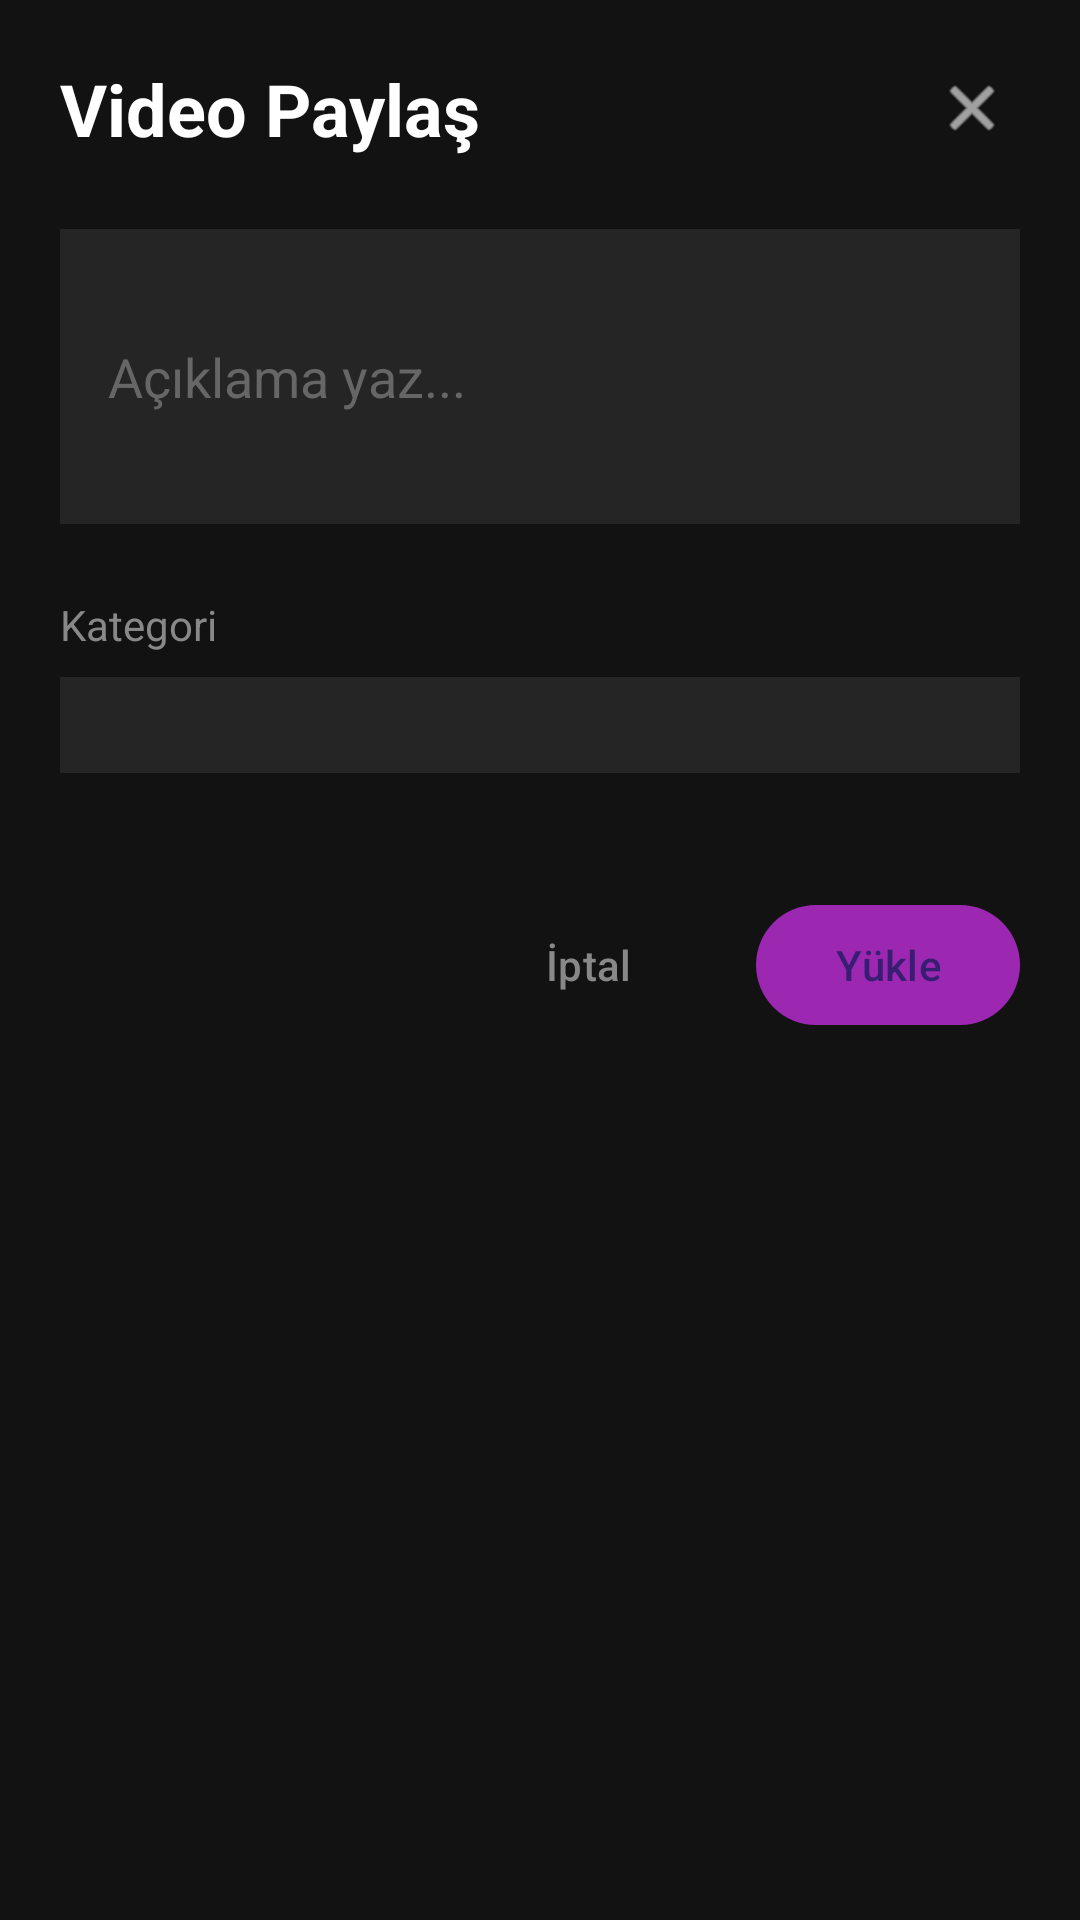

Screen size 1080 x 1920. Icon name, then its box in pixels as box=[x1, y1, x2, y2]:
close clear cancel: box=[949, 85, 995, 131]
